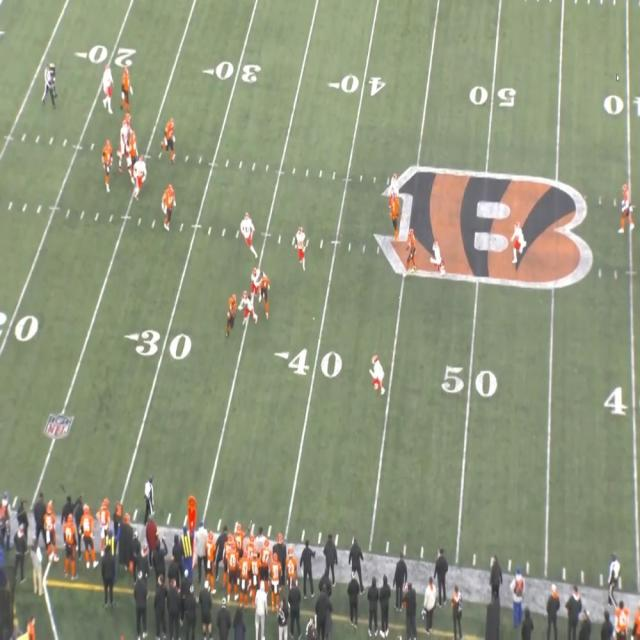db: (374, 356, 386, 397), (514, 220, 524, 264), (240, 291, 250, 325), (390, 173, 400, 202), (433, 241, 441, 267)
lb: (296, 228, 308, 266), (252, 267, 264, 301)
qb: (102, 141, 111, 196)
skill: (256, 268, 270, 320), (406, 228, 418, 272), (389, 192, 400, 238), (227, 291, 238, 333)
